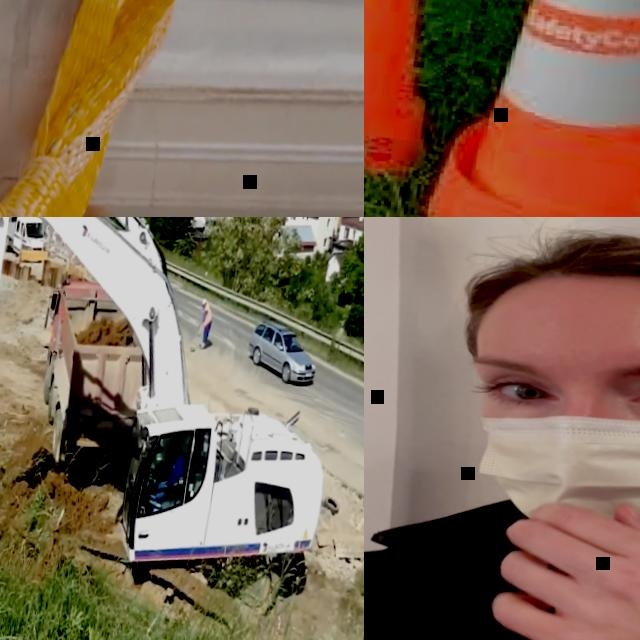Hardhat: (202, 298, 208, 305)
Mask: (461, 351, 640, 565)
NO-Hardhat: (474, 220, 640, 357)
NO-Safety Vest: (364, 519, 640, 640), (170, 459, 185, 482)
Person: (364, 217, 640, 640), (154, 444, 190, 503), (196, 297, 215, 350)
Safety Cone: (422, 0, 640, 217), (364, 0, 471, 172)
Safety Vest: (203, 303, 214, 327)
machinery: (0, 217, 364, 640), (26, 269, 157, 480)
vehicle: (244, 319, 322, 389), (12, 217, 46, 261), (3, 217, 18, 250)
